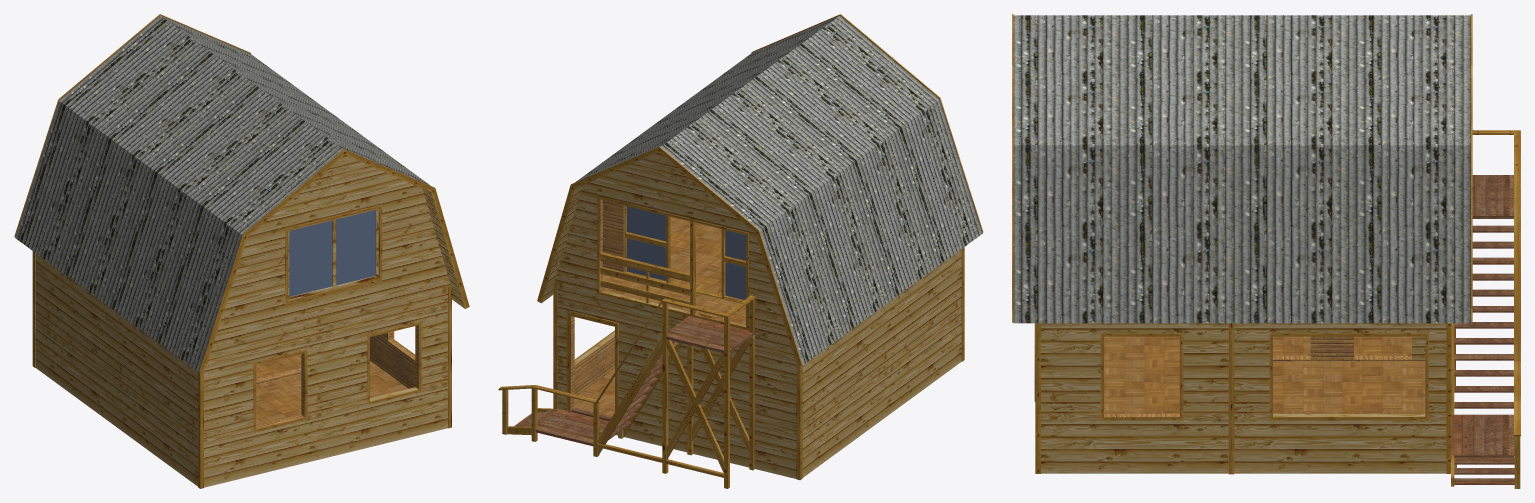
File: D_House.FBX
3 renders of one model, left to right at view 1: azimuth 30°, elevation 25°; view 2: azimuth 150°, elevation 25°; view 3: azimuth 270°, elevation 25°, orthographic. The views are drawn at different scales.
Visible parts, largest first — view 1: House; view 2: House; view 3: House.
Part boxes in pixels (x1=…): House: x1=14, y1=14, x2=469, y2=488; House: x1=498, y1=14, x2=983, y2=488; House: x1=1012, y1=14, x2=1520, y2=488.
Size of the model in its own units: 237 by 245 by 290.
Materials: 8 (6 with a texture image).
